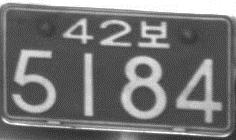1: (69, 52, 107, 117)
2: (98, 18, 131, 47)
4: (175, 58, 222, 123), (62, 16, 94, 44)
5: (10, 48, 57, 114)
8: (119, 54, 167, 120)
보: (137, 20, 170, 49)
